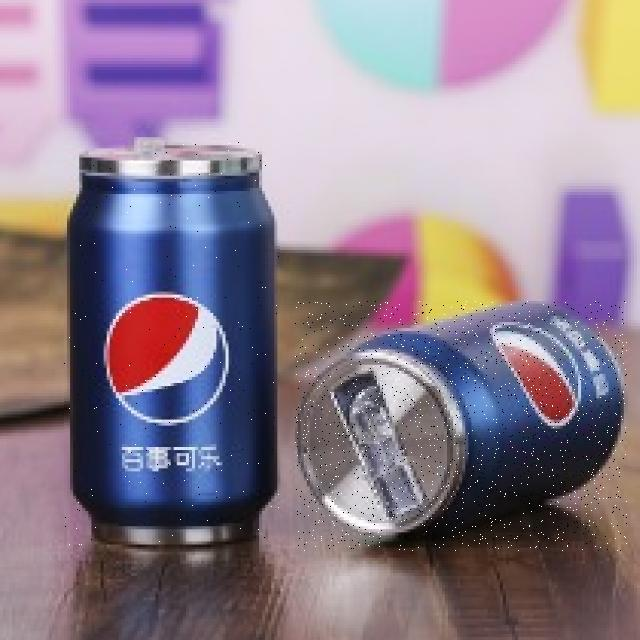metal: (64, 143, 280, 548), (295, 301, 627, 551)
